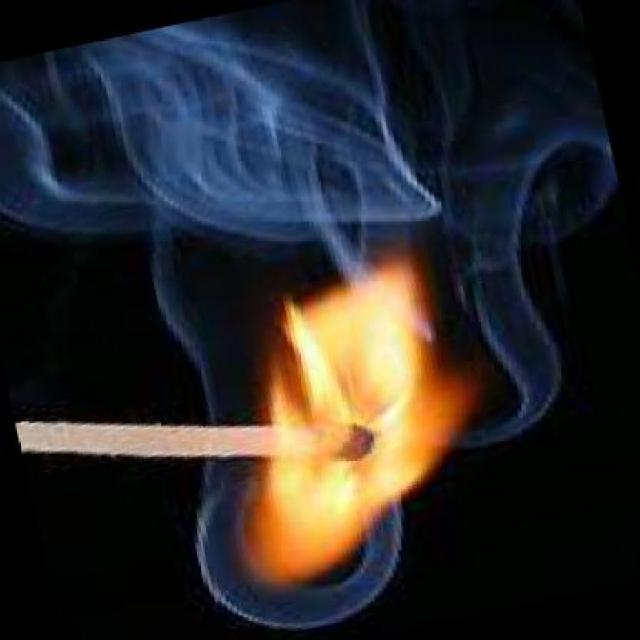Fire: (232, 254, 487, 594)
